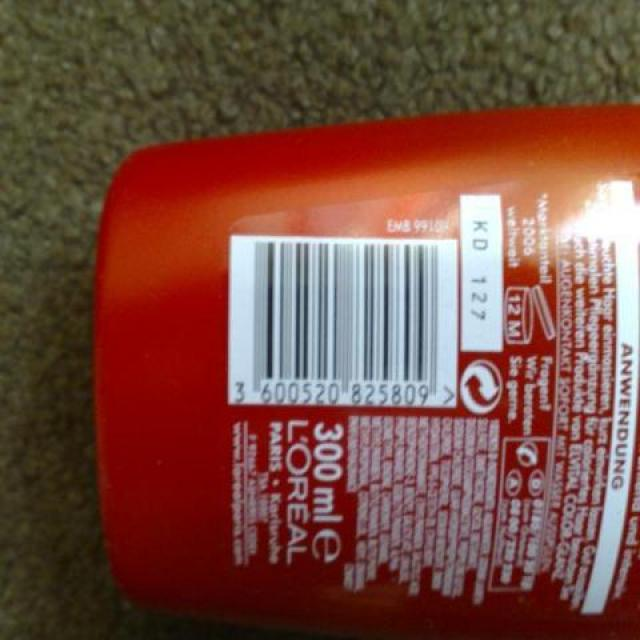Barcode: (225, 229, 462, 408)
